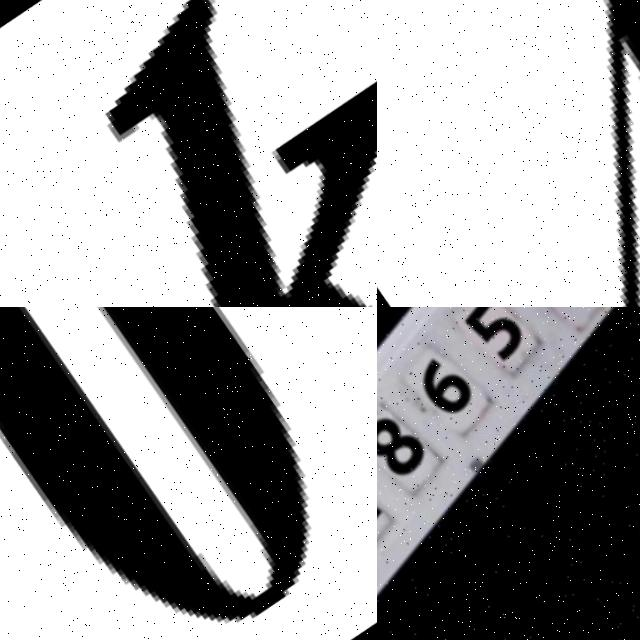0: (0, 307, 377, 640)
2: (377, 436, 408, 565)
5: (435, 307, 551, 382)
6: (383, 314, 507, 445)
8: (377, 373, 457, 506)
K: (0, 0, 377, 307)
